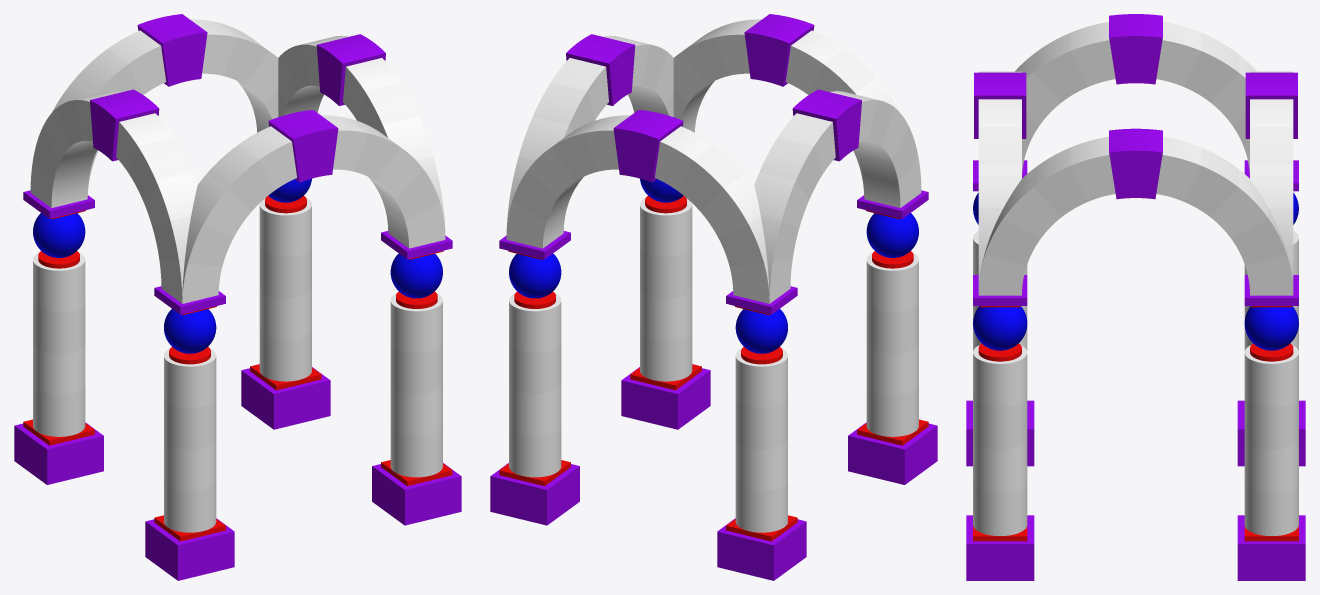
Rendered from memphis_arches.glb.
3 views of the same model, side by side, from view 1: azimuth 30°, elevation 25°; view 2: azimuth 150°, elevation 25°; view 3: azimuth 270°, elevation 25° (orthographic). The views are drawn at different scales.
Visible parts, largest first — view 1: Part 1.004, Part 1.005, Part 1.006, Part 1.007, Part 16.007, Part 16.004, Part 16.005, Part 16.006, Part 6.007, Part 6.004, Part 6.006, Part 6.005 (+55 smaller); view 2: Part 1.005, Part 1.004, Part 1.007, Part 1.006, Part 16.004, Part 16.007, Part 16.005, Part 16.006, Part 6.006, Part 6.005, Part 6.007, Part 6.004 (+55 smaller); view 3: Part 16.006, Part 16.005, Part 1.004, Part 1.005, Part 6.004, Part 6.005, Part 5.004, Part 5.005, Part 3.004, Part 3.005, Part 4.004, Part 4.005 (+36 smaller).
Part boxes in pixels (bbox=[...]): Part 1.004: bbox=[372, 463, 461, 525]; Part 1.005: bbox=[241, 367, 330, 429]; Part 1.006: bbox=[145, 518, 234, 580]; Part 1.007: bbox=[14, 422, 103, 484]; Part 16.007: bbox=[137, 14, 207, 86]; Part 16.004: bbox=[268, 110, 338, 182]; Part 16.005: bbox=[316, 34, 385, 105]; Part 16.006: bbox=[90, 89, 159, 161]; Part 6.007: bbox=[33, 252, 85, 312]; Part 6.004: bbox=[390, 293, 442, 352]; Part 6.006: bbox=[164, 348, 216, 407]; Part 6.005: bbox=[259, 197, 311, 256]; Part 1.005: bbox=[490, 463, 579, 525]; Part 1.004: bbox=[621, 367, 710, 429]; Part 1.007: bbox=[717, 518, 806, 580]; Part 1.006: bbox=[848, 422, 937, 484]; Part 16.004: bbox=[744, 14, 814, 86]; Part 16.007: bbox=[613, 110, 683, 182]; Part 16.005: bbox=[566, 34, 635, 105]; Part 16.006: bbox=[792, 89, 861, 161]; Part 6.006: bbox=[866, 252, 918, 312]; Part 6.005: bbox=[509, 293, 561, 352]; Part 6.007: bbox=[735, 348, 787, 407]; Part 6.004: bbox=[640, 197, 692, 256]; Part 16.006: bbox=[1109, 14, 1162, 84]; Part 16.005: bbox=[1109, 128, 1162, 199]; Part 1.004: bbox=[966, 515, 1034, 580]; Part 1.005: bbox=[1237, 515, 1305, 580]; Part 6.004: bbox=[973, 345, 1027, 406]; Part 6.005: bbox=[1244, 345, 1298, 406]; Part 5.004: bbox=[973, 396, 1027, 449]; Part 5.005: bbox=[1244, 396, 1298, 449]; Part 3.004: bbox=[973, 483, 1027, 536]; Part 3.005: bbox=[1244, 483, 1298, 536]; Part 4.004: bbox=[973, 440, 1027, 492]; Part 4.005: bbox=[1244, 440, 1298, 492].
Size of the model in its own units: 2.5 by 3.47 by 2.5.
